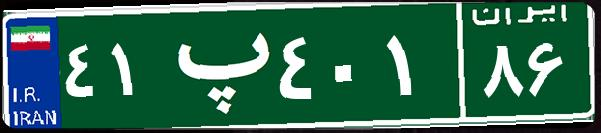0: (330, 28, 385, 110)
1: (385, 28, 445, 110), (110, 28, 158, 105)
4: (273, 28, 330, 110), (57, 26, 110, 107)
6: (525, 38, 570, 115)
8: (475, 38, 525, 113)
پ: (158, 15, 273, 115)
